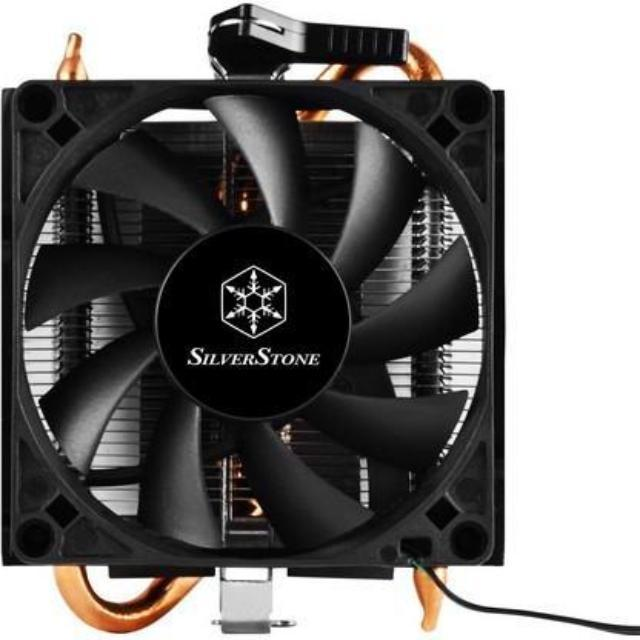CPU_Fan: (0, 72, 522, 584)
